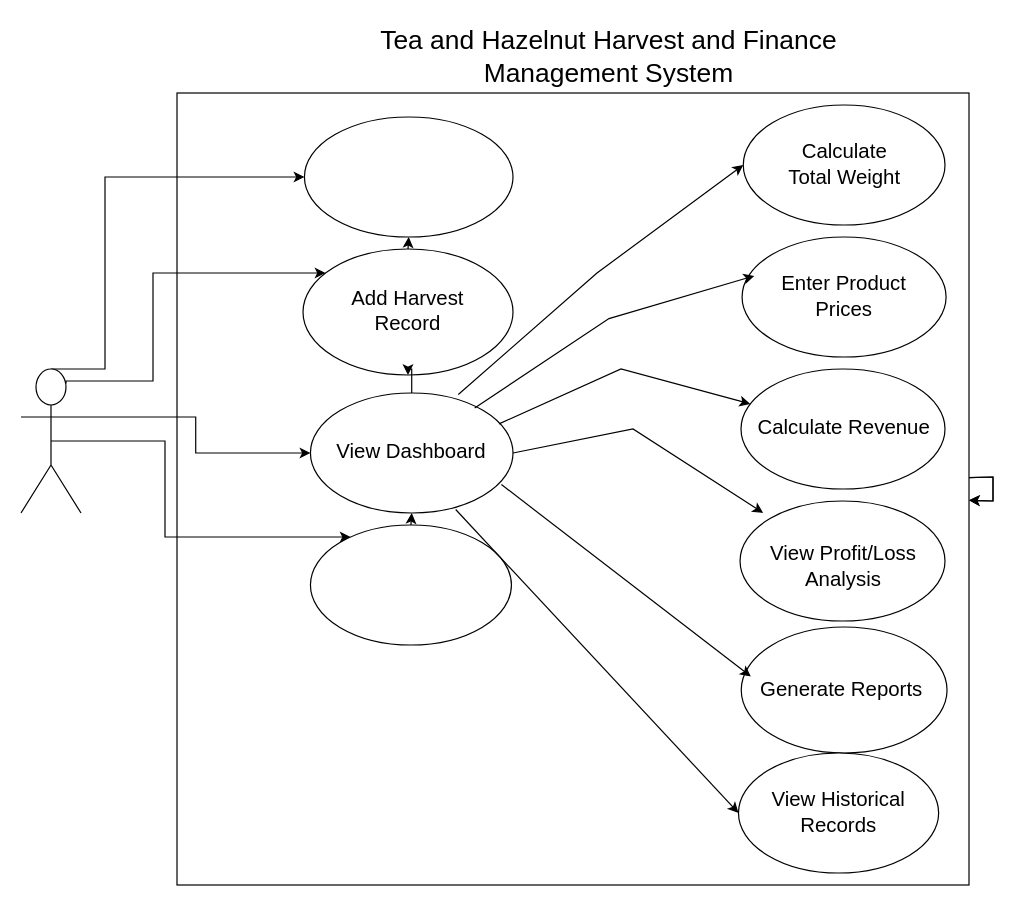
The diagram is 1024 pixels wide and 906 high, and some of its shapes have lost their labels. Here are the shapes that lost their labels. From the top down, the centre of each, then its label:
At (408,176): "Create Harvest Season".
At (50,440): "Producer".
At (410,584): "Record Expenses".
